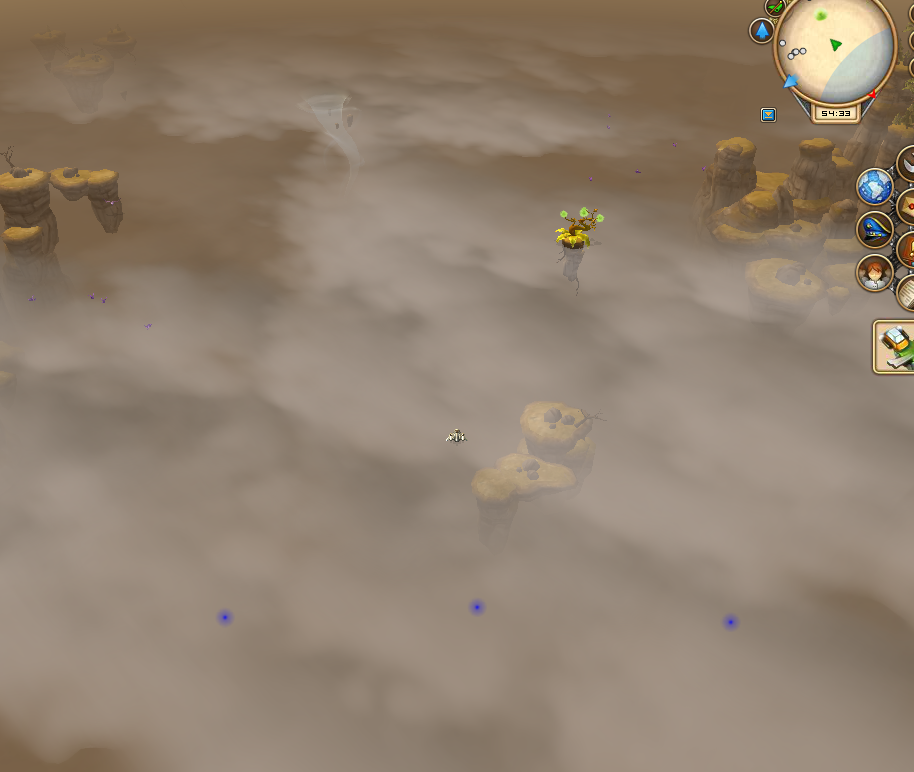dandelion-full: (547, 200, 607, 273)
